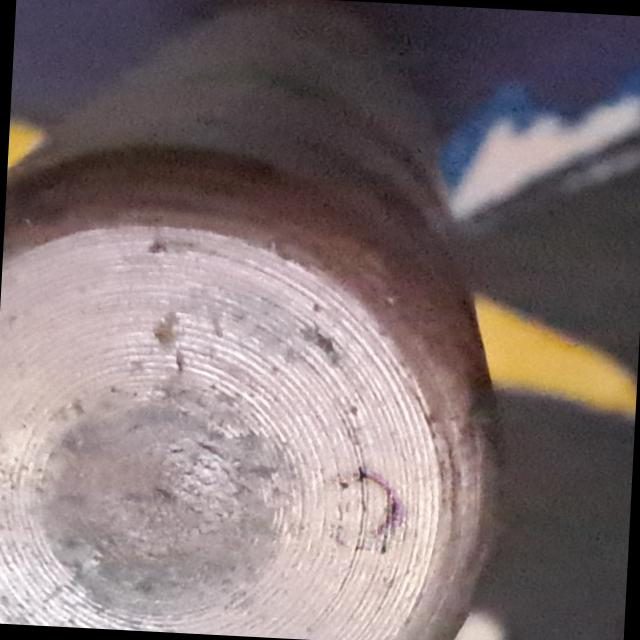defect: (302, 459, 414, 541)
planson: (0, 0, 507, 640)
